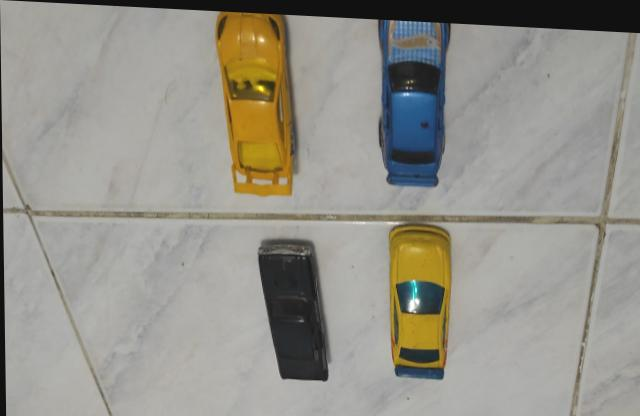01_FORD: (255, 235, 329, 378)
02_OZSOME: (387, 217, 452, 375)
04_MERZEDES: (375, 16, 453, 182)
07_RHLTURBO: (215, 9, 295, 193)
